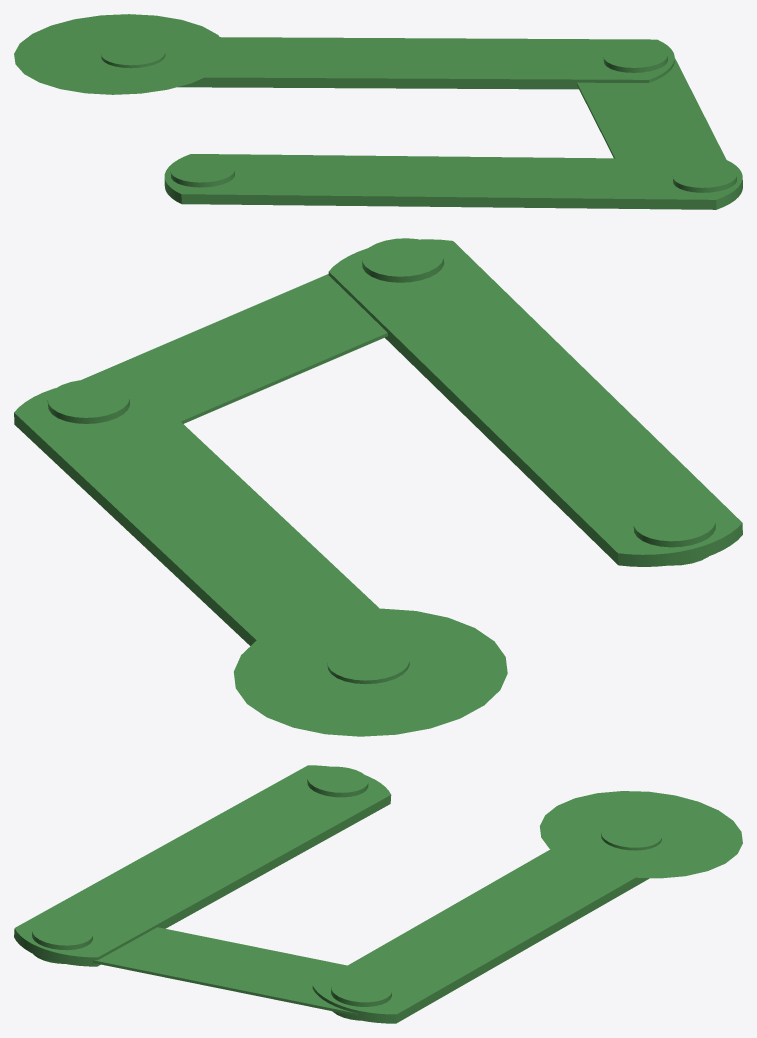
The model's file is FngJntNmlRight.dae.
3 views of the same model, one above another, from view 1: azimuth 30°, elevation 25°; view 2: azimuth 150°, elevation 25°; view 3: azimuth 270°, elevation 25° (orthographic). The views are drawn at different scales.
Visible parts, largest first — view 1: group_3 (×3), group_1 (×3), group_0, group_2; view 2: group_3 (×3), group_1 (×3), group_0, group_2; view 3: group_3 (×3), group_1 (×3), group_0, group_2.
Part boxes in pixels (<box>): group_3 (×3): <box>164,154,742,209</box>; group_1 (×3): <box>101,37,674,89</box>; group_0: <box>14,14,227,94</box>; group_2: <box>577,58,726,159</box>; group_3 (×3): <box>328,238,742,566</box>; group_1 (×3): <box>14,379,409,684</box>; group_0: <box>233,608,507,736</box>; group_2: <box>82,274,387,423</box>; group_3 (×3): <box>14,765,391,966</box>; group_1 (×3): <box>312,821,661,1023</box>; group_0: <box>539,791,742,878</box>; group_2: <box>93,927,357,1016</box>.
Bounding box in the file's own units: 22.18 × 28.11 × 2.14.
